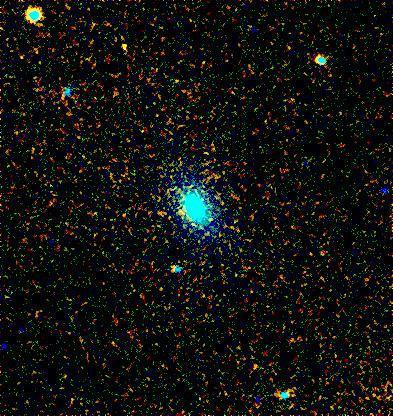star: (109, 32, 139, 62)
